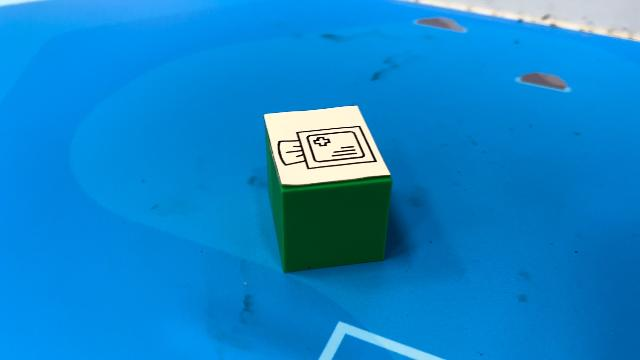napkin: (264, 103, 394, 273)
